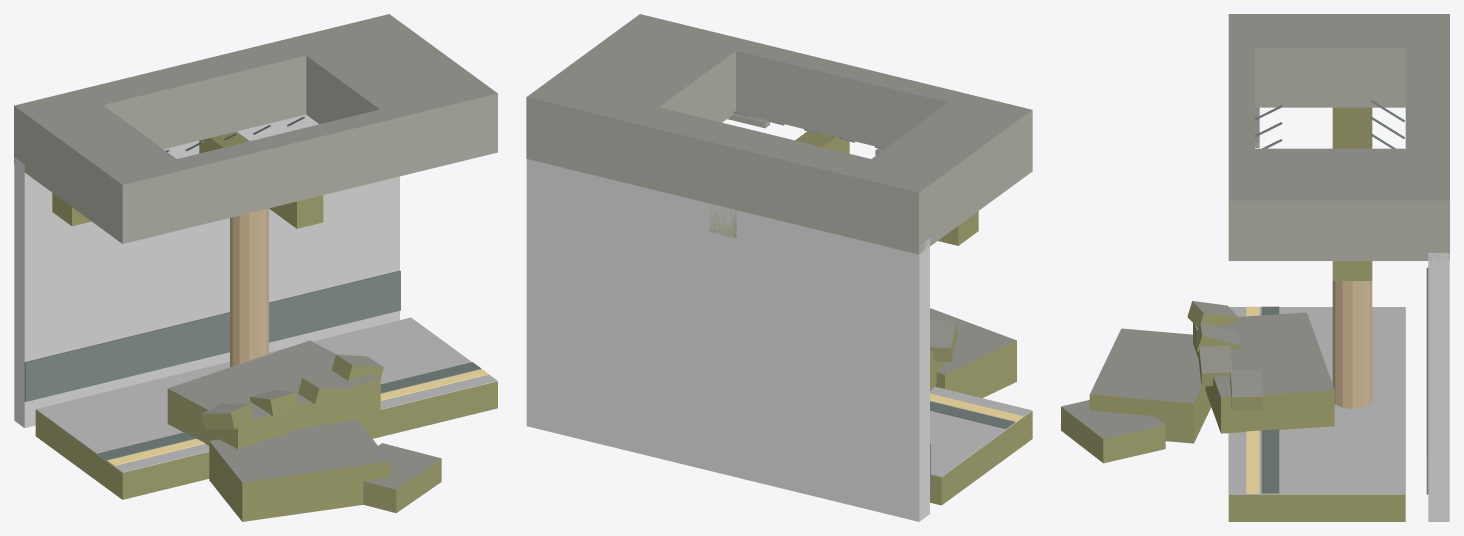
The model's file is SM_AndenLosa_Lateral_v2_LosaRota_LOD0.fbx.
The picture shows the model from 3 angles, left to right: view 1: azimuth 30°, elevation 25°; view 2: azimuth 150°, elevation 25°; view 3: azimuth 270°, elevation 25°; orthographic projection. The views are drawn at different scales.
Parts seen in each view (by area): view 1: SM_anden_losa_v7_LOD0, Losa; view 2: SM_anden_losa_v7_LOD0, Losa; view 3: SM_anden_losa_v7_LOD0, Losa.
Part boxes in pixels (x1,y1,x2,y2): SM_anden_losa_v7_LOD0: (14,114,497,521); Losa: (14,14,497,243); SM_anden_losa_v7_LOD0: (526,159,1032,521); Losa: (526,14,1032,254); SM_anden_losa_v7_LOD0: (1061,253,1449,521); Losa: (1228,14,1449,280).
Bounding box in the file's own units: 9.98 × 8 × 8.78.
